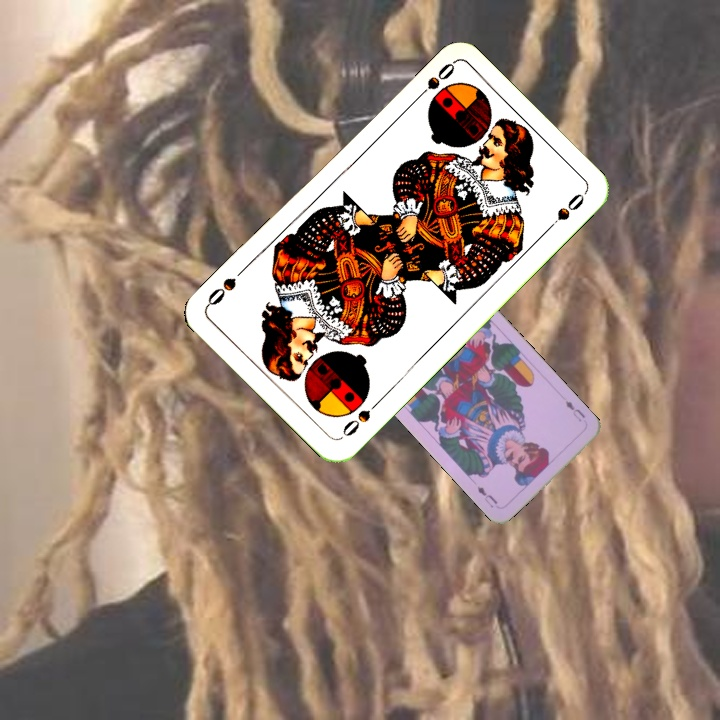EU: (561, 396, 588, 425)
SO: (409, 58, 458, 105), (336, 396, 383, 441)
